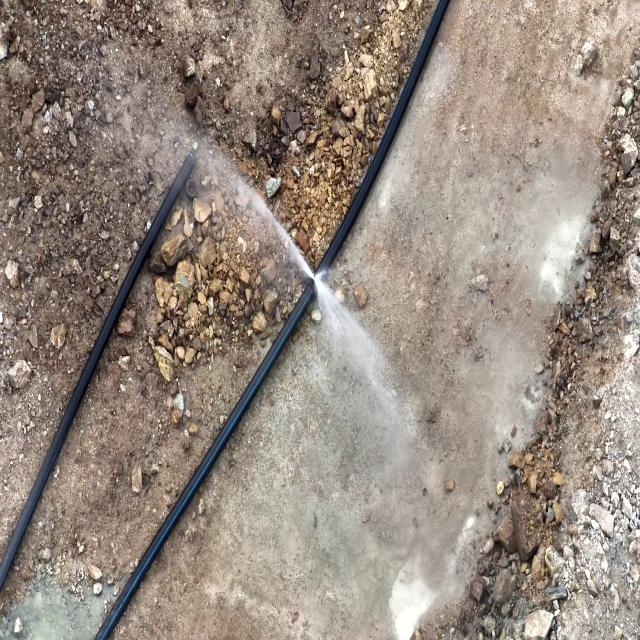leak: (223, 164, 380, 367)
